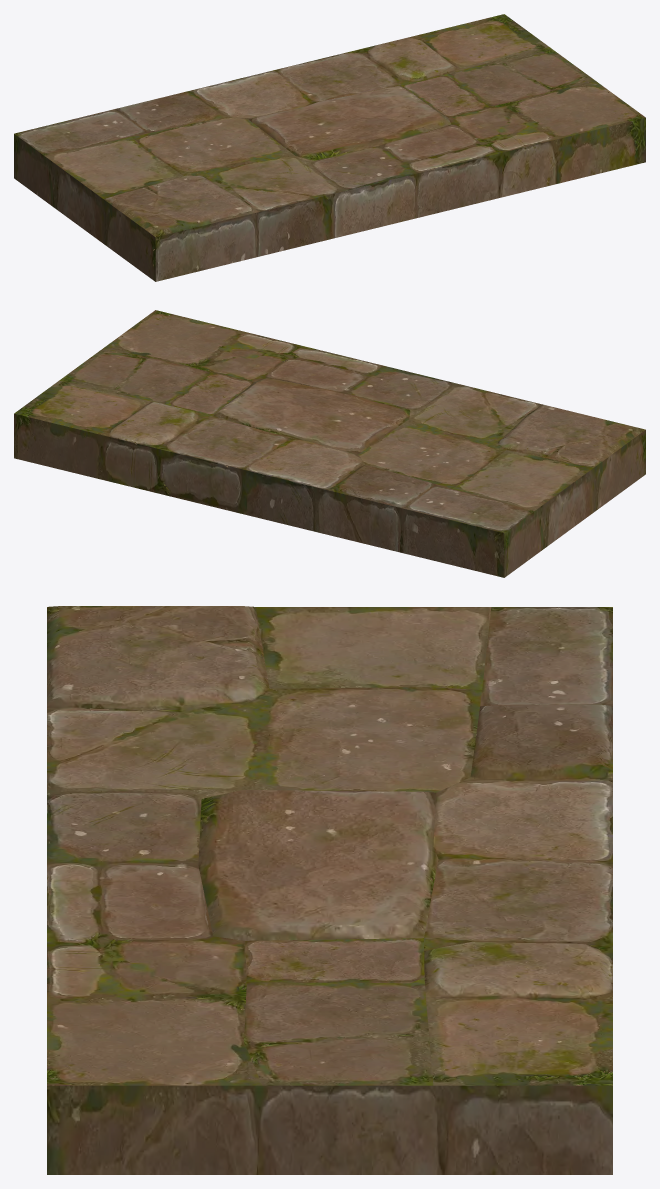
3 views of the same model, one above another, from view 1: azimuth 30°, elevation 25°; view 2: azimuth 150°, elevation 25°; view 3: azimuth 270°, elevation 25° (orthographic). The views are drawn at different scales.
Parts seen in each view (by area): view 1: SM_Human_Ruins_StoneFloor_04_LOD0; view 2: SM_Human_Ruins_StoneFloor_04_LOD0; view 3: SM_Human_Ruins_StoneFloor_04_LOD0.
Boxes of the visible parts, x1,y1,x2,y2 form: SM_Human_Ruins_StoneFloor_04_LOD0: (14,14,645,281); SM_Human_Ruins_StoneFloor_04_LOD0: (14,310,645,577); SM_Human_Ruins_StoneFloor_04_LOD0: (47,606,612,1174).
Bounding box in the file's own units: 4 × 0.3733 × 2.
1 material, 1 textured.
